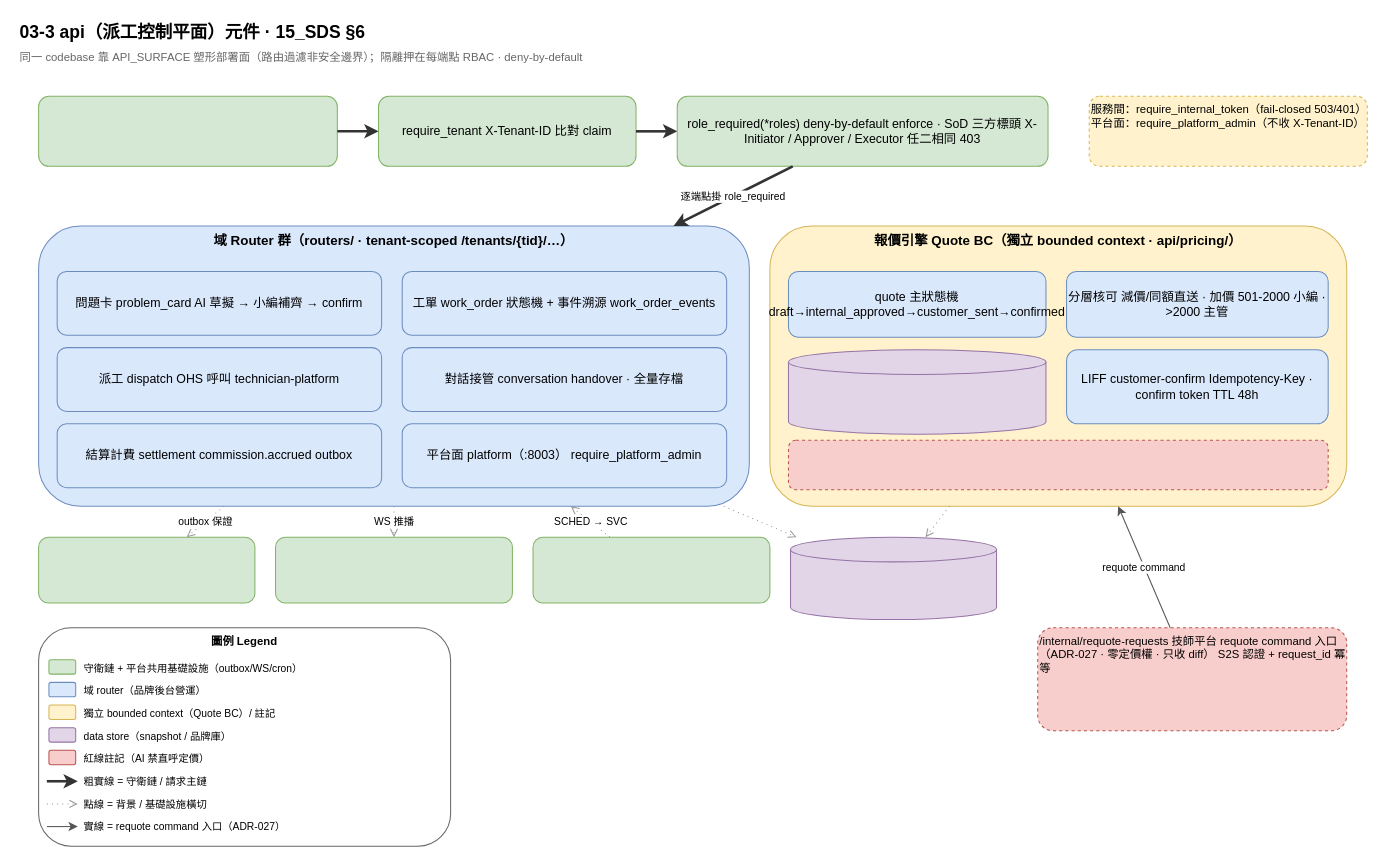
Some shapes in this 1385 by 864 pixel diagram are drawn without their labels. Here are the shapes that lost their labels. From the top down, the centre of each, then its label:
At (x=187, y=130): "get_current_user 驗 Bearer + jti 撤銷 + 每請求安全狀態重查".
At (x=916, y=391): "pricing_rule_snapshot sha256 · append-only 已送出報價不重算".
At (x=1057, y=464): "AI 禁直呼定價引擎——經報價聚合 in-process 取價（BR-QUOTE / FR-C02）".
At (x=146, y=569): "outbox DB 寫入 ⟂ side-effect 分離 · 重試至成功".
At (x=393, y=569): "WS hub（10 頻道） 🔜 遷 Redis pub/sub（ADR-P007）".
At (x=651, y=569): "11 cron workers SLA / GDPR 硬刪 / 自動結案 / outbox 🔜 分散式鎖".
At (x=893, y=578): "品牌庫 lock_AI_data 一品牌一庫（物理隔離）".
